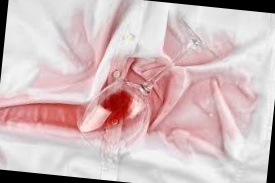wine: (151, 74, 248, 112), (0, 100, 89, 133), (162, 98, 219, 143)
